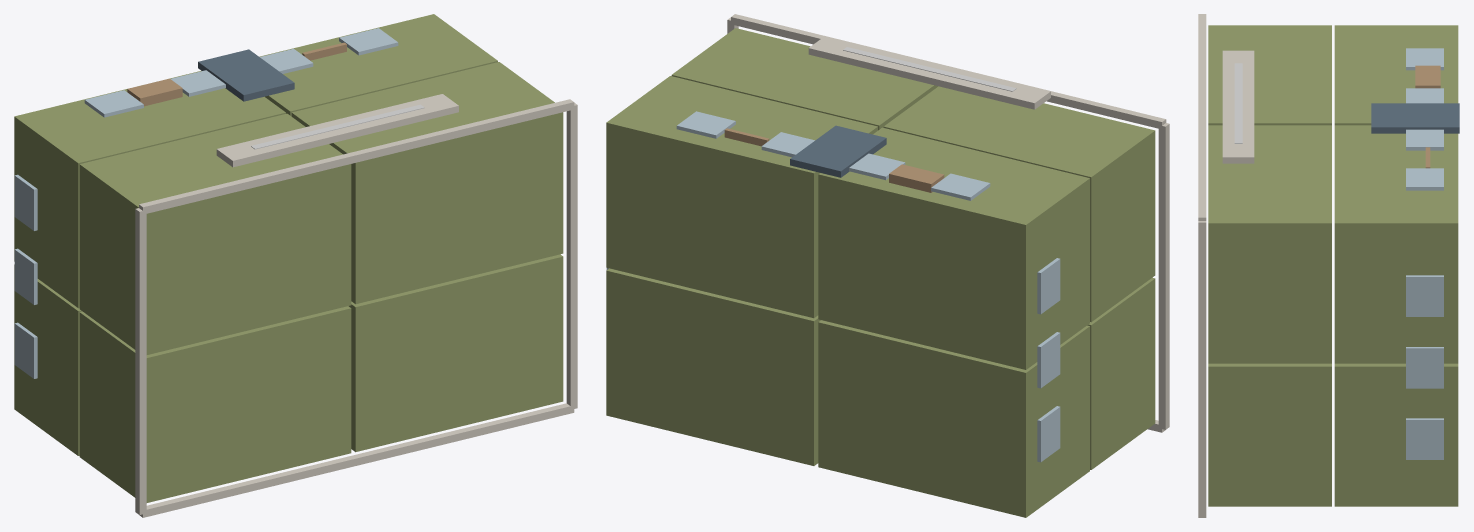
The model's file is building-home-goods-store.glb.
The picture shows the model from 3 angles, left to right: view 1: azimuth 30°, elevation 25°; view 2: azimuth 150°, elevation 25°; view 3: azimuth 270°, elevation 25°; orthographic projection. The views are drawn at different scales.
Visible parts, largest first — view 1: world; view 2: world; view 3: world.
Part boxes in pixels (x1=…): world: x1=14, y1=14, x2=577, y2=517; world: x1=606, y1=14, x2=1169, y2=517; world: x1=1198, y1=14, x2=1459, y2=517.
Size of the model in its own units: 15.5 by 10.93 by 8.27.
